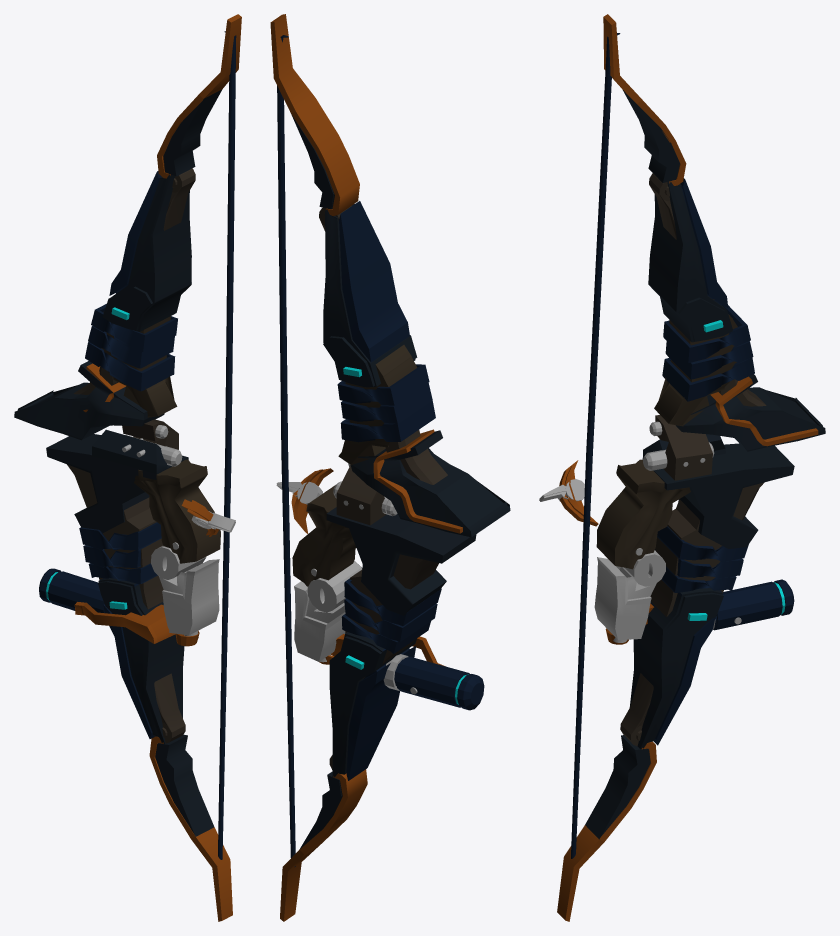
File: hanzo_weapon_0.obj
3 renders of one model, left to right at view 1: azimuth 30°, elevation 25°; view 2: azimuth 210°, elevation 25°; view 3: azimuth 270°, elevation 25°, orthographic. The views are drawn at different scales.
Parts seen in each view (by area): view 1: pCube11_Untitled.029, pCube12_Untitled.004, pCube1_Untitled.010, pCylinder12_Untitled.035, pCube15_Untitled.005, pCube6_Untitled.022, pCube7_Untitled.008, polySurface4_Untitled.014, pCube3_Untitled.002, pCylinder4_Untitled.023, pCube26_Untitled.017, pCube13_Untitled.020 (+10 smaller); view 2: pCube11_Untitled.029, pCube12_Untitled.004, pCube1_Untitled.010, pCube15_Untitled.005, pCylinder12_Untitled.035, pCube6_Untitled.022, pCylinder4_Untitled.023, pCube7_Untitled.008, pCube13_Untitled.020, pCube10_Untitled.031, pCube26_Untitled.017, pCube24_Untitled.034 (+11 smaller); view 3: pCube11_Untitled.029, pCube12_Untitled.004, pCube1_Untitled.010, pCylinder12_Untitled.035, pCube6_Untitled.022, pCube15_Untitled.005, pCube7_Untitled.008, pCylinder4_Untitled.023, pCube3_Untitled.002, pCube10_Untitled.031, pCube13_Untitled.020, pCube26_Untitled.017 (+10 smaller).
Boxes of the visible parts, <box> form: pCube11_Untitled.029: <box>98,171,191,744</box>; pCube12_Untitled.004: <box>149,14,241,921</box>; pCube1_Untitled.010: <box>46,429,188,533</box>; pCylinder12_Untitled.035: <box>218,31,236,859</box>; pCube15_Untitled.005: <box>14,361,164,440</box>; pCube6_Untitled.022: <box>134,459,220,563</box>; pCube7_Untitled.008: <box>159,559,219,635</box>; polySurface4_Untitled.014: <box>74,602,199,646</box>; pCube3_Untitled.002: <box>99,497,163,609</box>; pCylinder4_Untitled.023: <box>39,568,104,612</box>; pCube26_Untitled.017: <box>85,342,175,391</box>; pCube13_Untitled.020: <box>101,311,177,417</box>; pCube11_Untitled.029: <box>323,201,417,780</box>; pCube12_Untitled.004: <box>270,14,367,921</box>; pCube1_Untitled.010: <box>326,507,476,615</box>; pCube15_Untitled.005: <box>350,430,510,537</box>; pCylinder12_Untitled.035: <box>277,35,295,867</box>; pCube6_Untitled.022: <box>292,485,356,586</box>; pCylinder4_Untitled.023: <box>383,654,484,710</box>; pCube7_Untitled.008: <box>294,581,345,661</box>; pCube13_Untitled.020: <box>338,345,417,465</box>; pCube10_Untitled.031: <box>336,465,385,525</box>; pCube26_Untitled.017: <box>340,400,435,442</box>; pCube24_Untitled.034: <box>337,364,429,405</box>; pCube11_Untitled.029: <box>629,178,732,749</box>; pCube12_Untitled.004: <box>557,14,686,921</box>; pCube1_Untitled.010: <box>642,434,794,548</box>; pCylinder12_Untitled.035: <box>571,33,620,858</box>; pCube6_Untitled.022: <box>596,459,690,569</box>; pCube15_Untitled.005: <box>676,374,825,451</box>; pCube7_Untitled.008: <box>594,557,656,640</box>; pCylinder4_Untitled.023: <box>713,579,794,630</box>; pCube3_Untitled.002: <box>650,499,723,616</box>; pCube10_Untitled.031: <box>655,415,712,480</box>; pCube13_Untitled.020: <box>654,299,737,426</box>; pCube26_Untitled.017: <box>662,357,754,401</box>.
Bounding box in the file's own units: 0.5292 × 3.21 × 0.9092.
